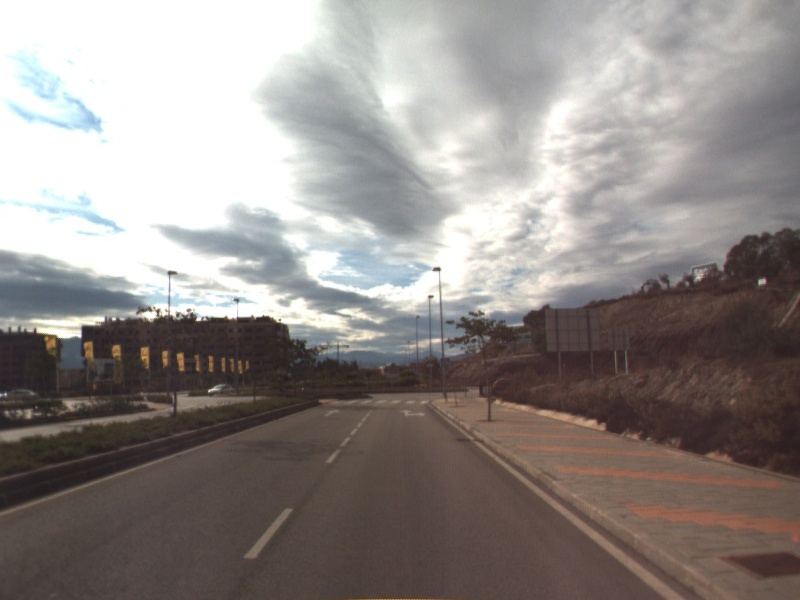STRAIGHT: (322, 407, 342, 418)
STRAIGHT_RIGHT: (398, 407, 427, 419)
